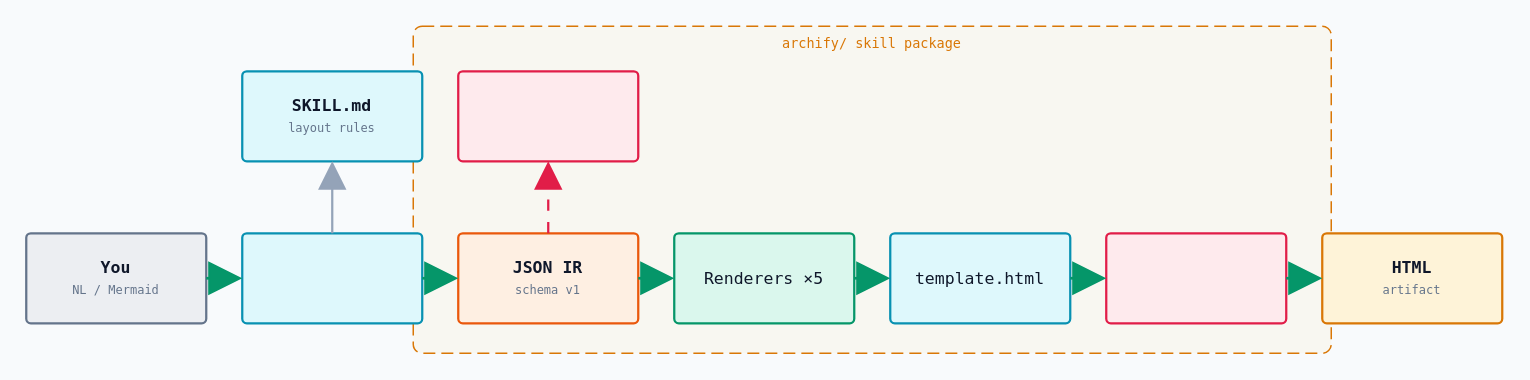
This 1530x380 diagram has some shape labels left out. Here are the shapes that lost their labels. From the top down, the centre of each, then its label:
At (x=547, y=115): "Schema ajv".
At (x=331, y=277): "Agent Hosts Claude · Codex".
At (x=1195, y=277): "Output Check".
